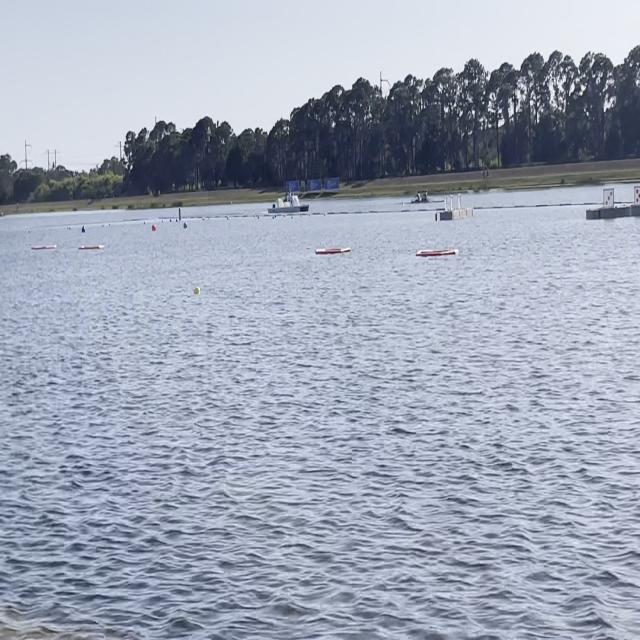buoy: (192, 282, 202, 298), (182, 222, 189, 231), (151, 224, 157, 234)
